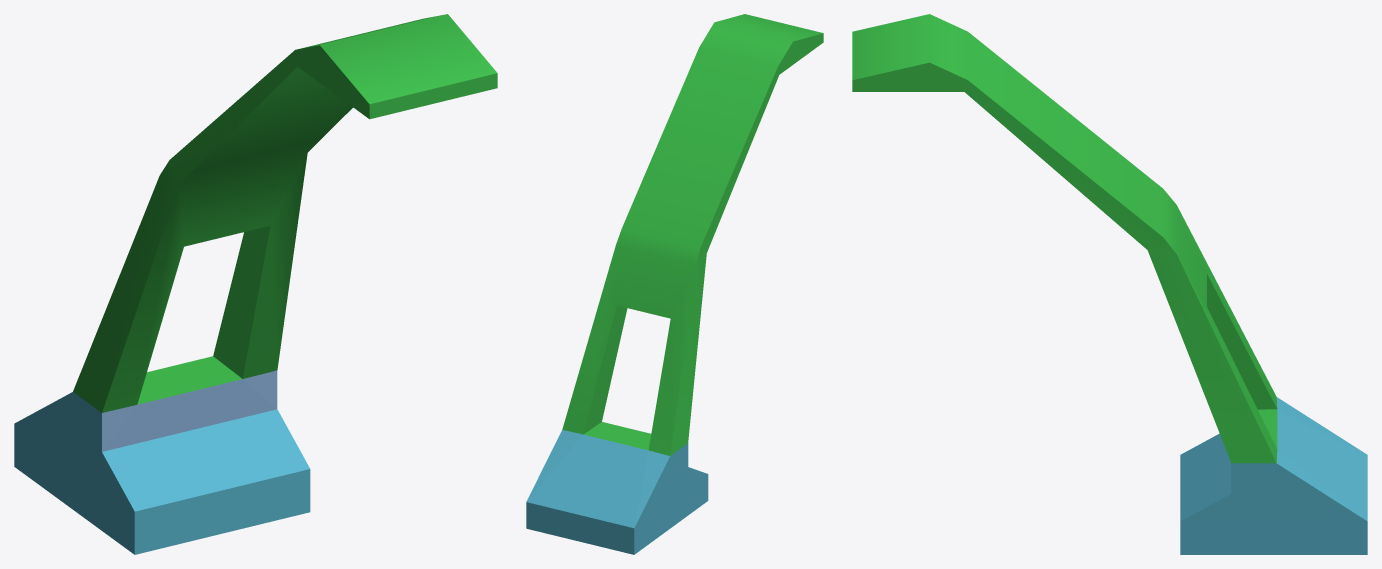
The model's file is bridge_light.fbx.
The picture shows the model from 3 angles, left to right: view 1: azimuth 30°, elevation 25°; view 2: azimuth 150°, elevation 25°; view 3: azimuth 270°, elevation 25°; orthographic projection. The views are drawn at different scales.
Parts seen in each view (by area): view 1: bridge_light; view 2: bridge_light; view 3: bridge_light.
Part boxes in pixels (box(x1,y1,x2,y2)): bridge_light: box(14, 14, 497, 554); bridge_light: box(526, 14, 823, 554); bridge_light: box(852, 14, 1367, 554).
Bounding box in the file's own units: 10949 × 37089 × 35819.
